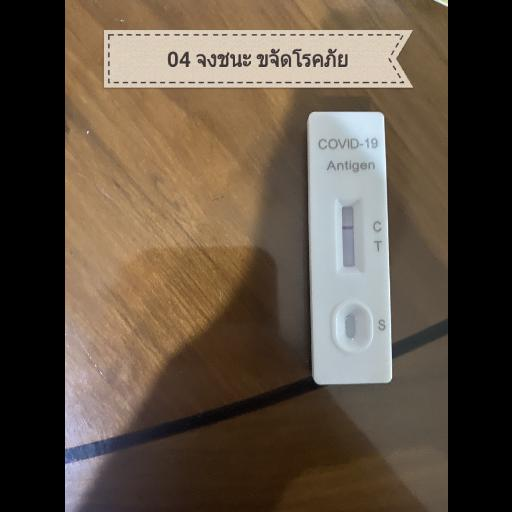Neg: (308, 111, 392, 384)
